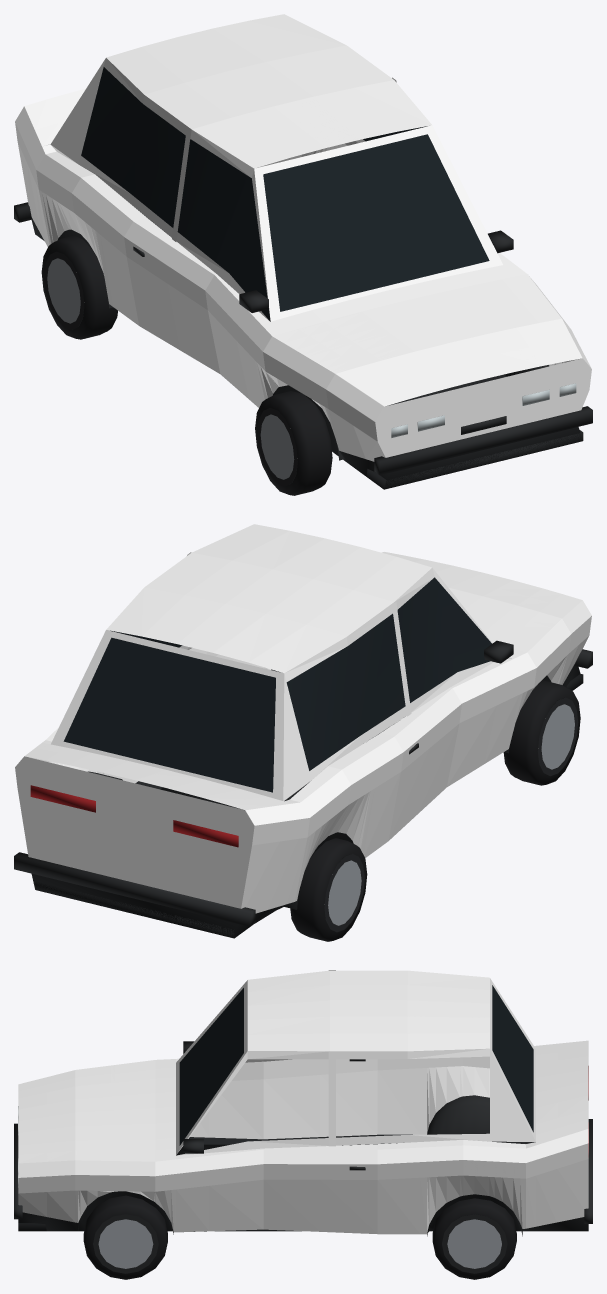
Rendered from hoshino_alca.glb.
3 renders of one model, top to bottom at view 1: azimuth 30°, elevation 25°; view 2: azimuth 150°, elevation 25°; view 3: azimuth 270°, elevation 25°, orthographic. The views are drawn at different scales.
Parts seen in each view (by area): view 1: Body_Paint, Body_Details, Mount_FrontLeft_Wheel_Details, Mount_RearLeft_Wheel_Details; view 2: Body_Paint, Body_Details, Mount_FrontLeft_Wheel_Details, Mount_RearLeft_Wheel_Details; view 3: Body_Paint, Body_Details, Mount_FrontRight_Wheel_Details, Mount_RearRight_Wheel_Details.
Part boxes in pixels (bbox=[...]): Body_Paint: bbox=[15, 14, 591, 461]; Body_Details: bbox=[14, 67, 592, 489]; Mount_FrontLeft_Wheel_Details: bbox=[255, 391, 332, 495]; Mount_RearLeft_Wheel_Details: bbox=[41, 235, 117, 339]; Body_Paint: bbox=[15, 524, 591, 913]; Body_Details: bbox=[14, 577, 592, 938]; Mount_FrontLeft_Wheel_Details: bbox=[503, 680, 580, 785]; Mount_RearLeft_Wheel_Details: bbox=[290, 838, 367, 941]; Body_Paint: bbox=[18, 970, 588, 1234]; Body_Details: bbox=[14, 985, 592, 1236]; Mount_FrontRight_Wheel_Details: bbox=[83, 1195, 167, 1279]; Mount_RearRight_Wheel_Details: bbox=[432, 1198, 516, 1279].
Bounding box in the file's own units: 1.66 × 1.51 × 3.63.
2 materials, 1 textured.
